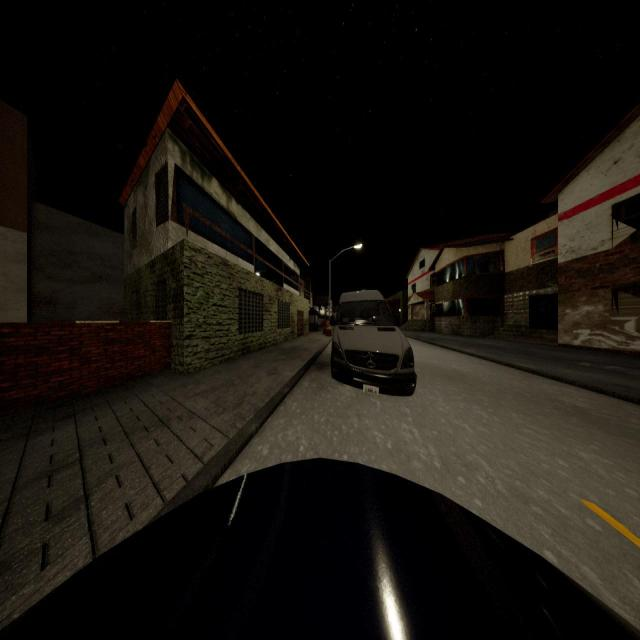Vehicle: (1, 456, 640, 640), (330, 290, 416, 395)
